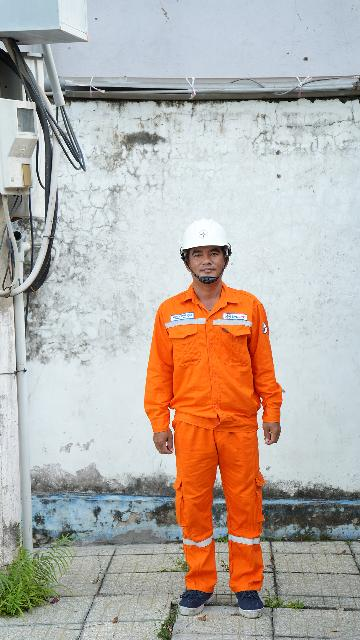helmet: (170, 208, 244, 260)
shoes: (150, 583, 223, 614), (227, 579, 278, 621)
